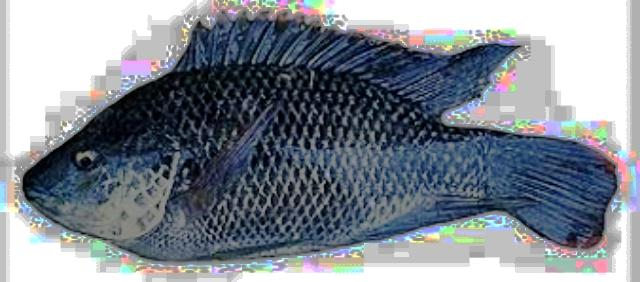Healthy Fish: (21, 11, 619, 263)
